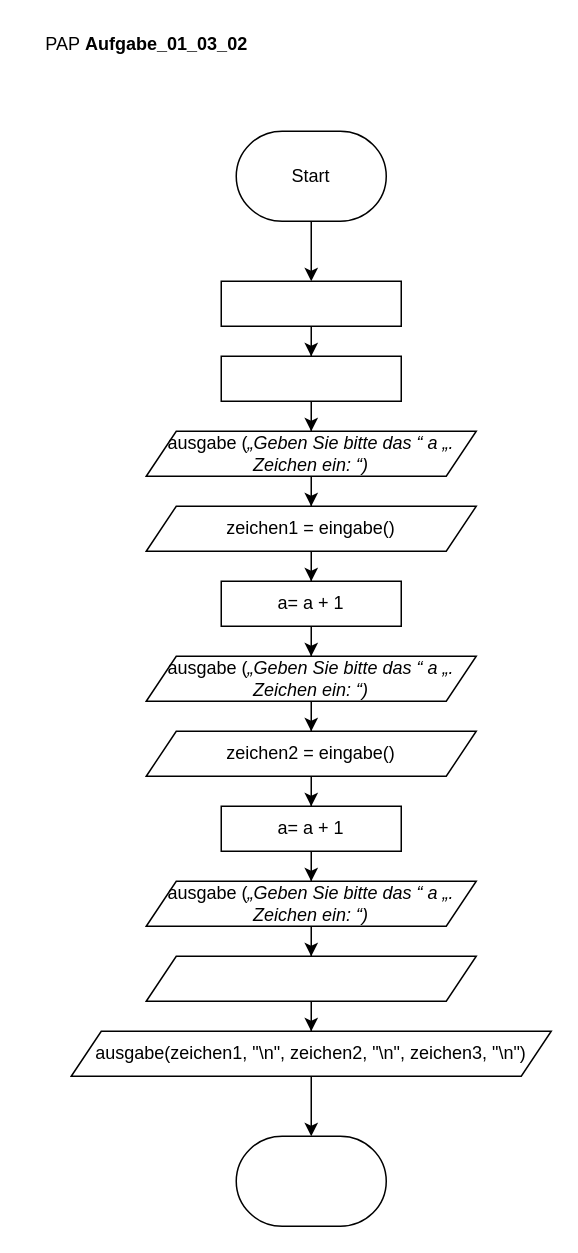
Some shapes in this 578 by 1253 pixel diagram are drawn without their labels. Each missing label, with the centre of its shape:
"char zeichen1, zeichen2, zeichen3" goes at point 310,378.
"Ende" goes at point 310,1180.
"int a = 1" goes at point 310,303.
"zeichen3 = eingabe()" goes at point 310,978.
